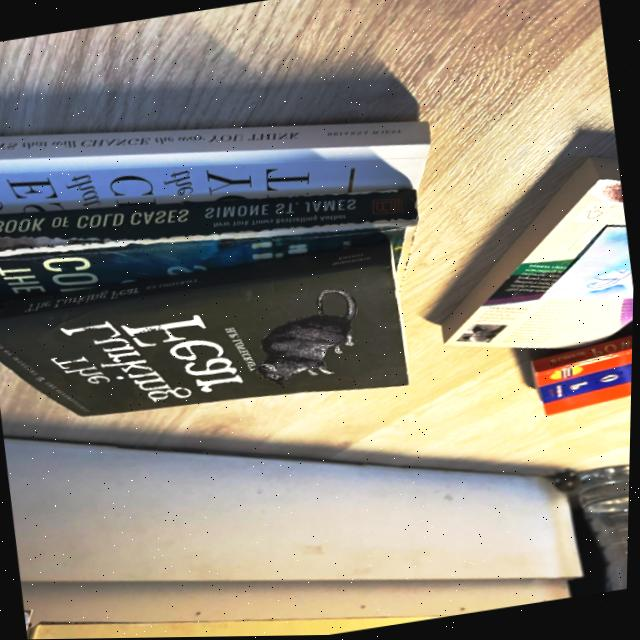Book: (0, 243, 410, 416), (0, 191, 418, 299), (0, 123, 435, 213), (443, 160, 635, 350), (534, 337, 634, 417)
